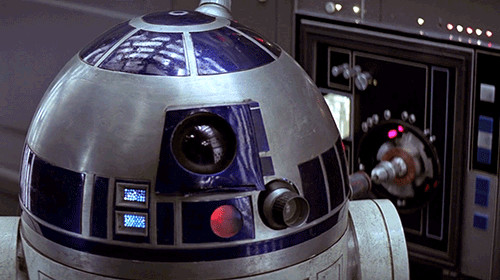r2d2: (1, 1, 411, 280)
